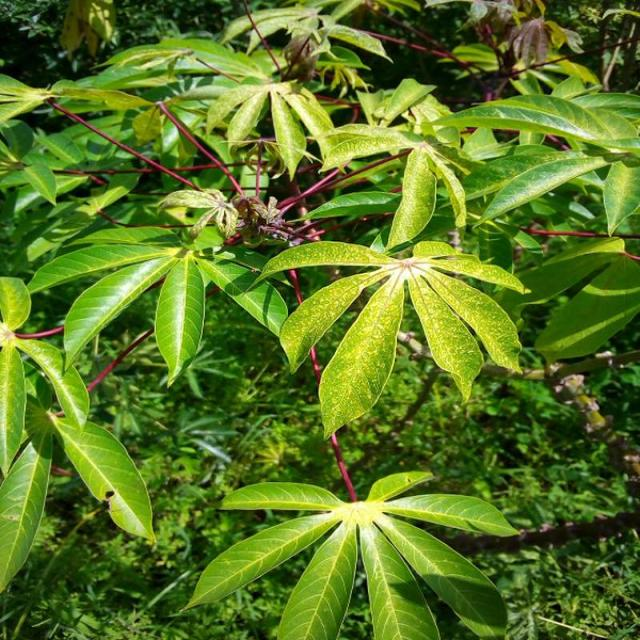cassava leaf: (179, 467, 519, 638), (48, 412, 155, 545), (153, 251, 204, 388)
